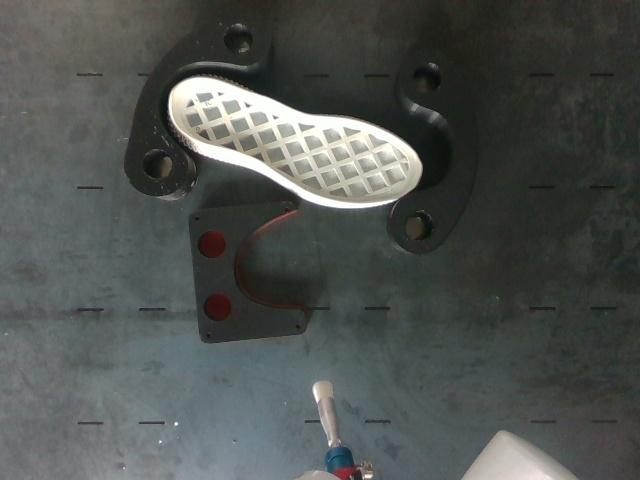shoes: (172, 77, 420, 203)
